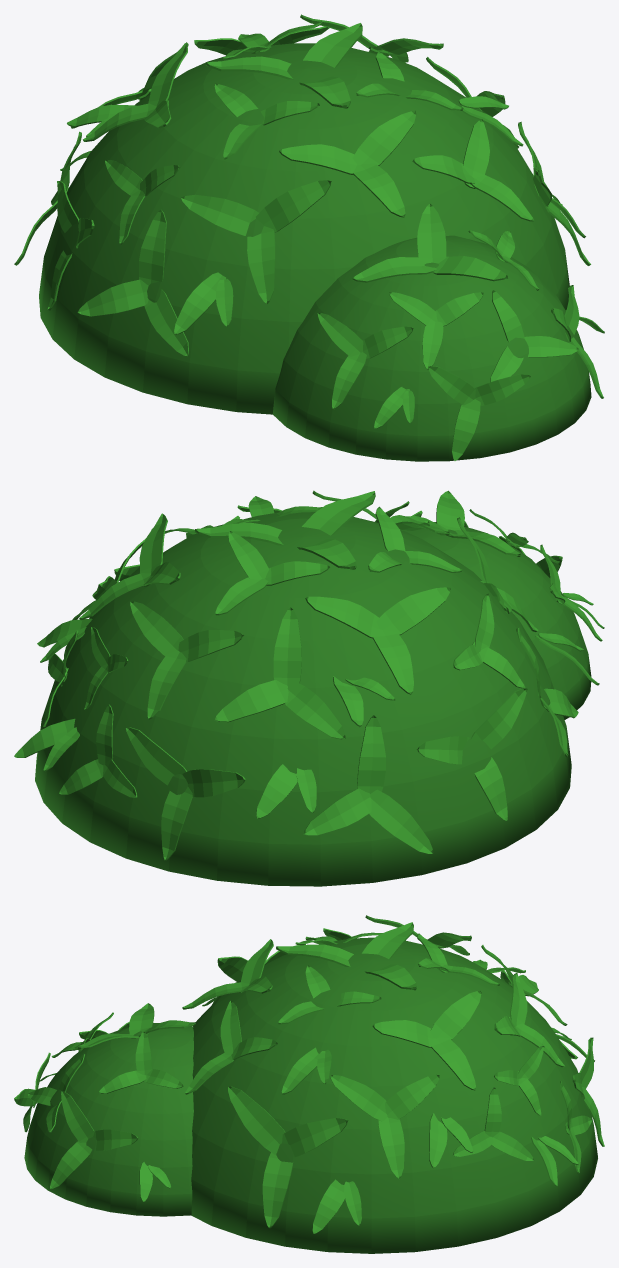
Rendered from Bush.glb.
The picture shows the model from 3 angles, top to bottom: view 1: azimuth 30°, elevation 25°; view 2: azimuth 150°, elevation 25°; view 3: azimuth 270°, elevation 25°; orthographic projection. The views are drawn at different scales.
Visible parts, largest first — view 1: Sphere.001; view 2: Sphere.001; view 3: Sphere.001.
Part boxes in pixels (x1,y1,x2,y2): Sphere.001: (14,14,604,461); Sphere.001: (14,490,604,886); Sphere.001: (14,915,604,1253).
Size of the model in its own units: 14.63 by 7.05 by 17.79.
